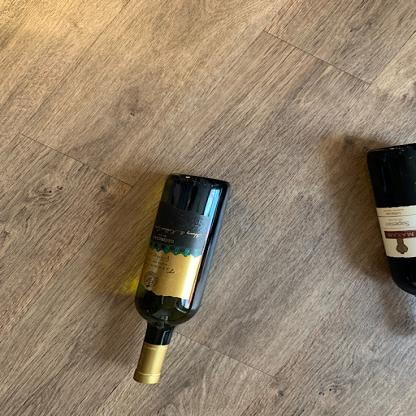trash: (130, 172, 232, 385), (366, 144, 415, 296)
